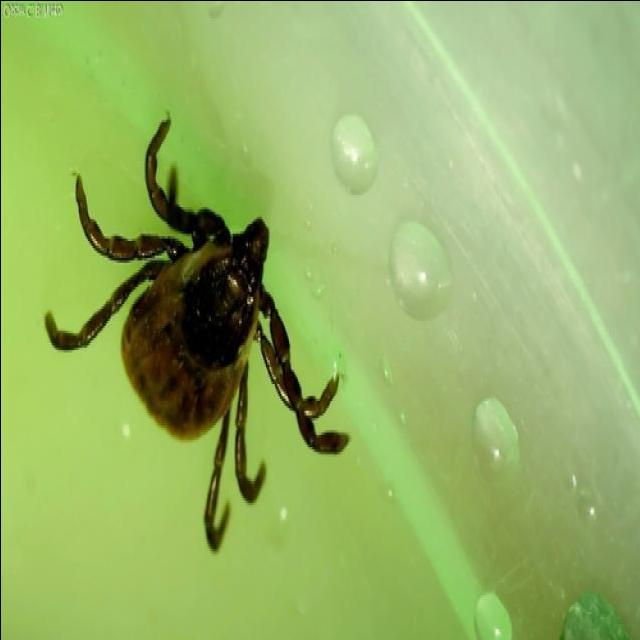Rhipicephalus Sanguineus-F: (42, 116, 349, 550)
